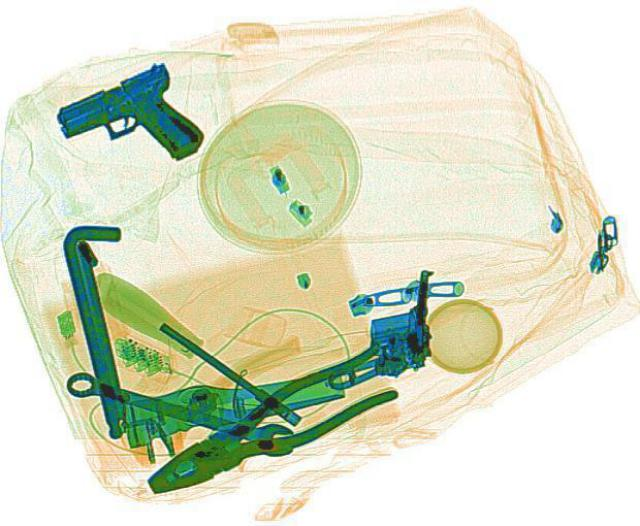Gun: (39, 58, 221, 189), (328, 266, 430, 385)
Pliers: (124, 336, 416, 511)
Wrench: (57, 360, 303, 459)
